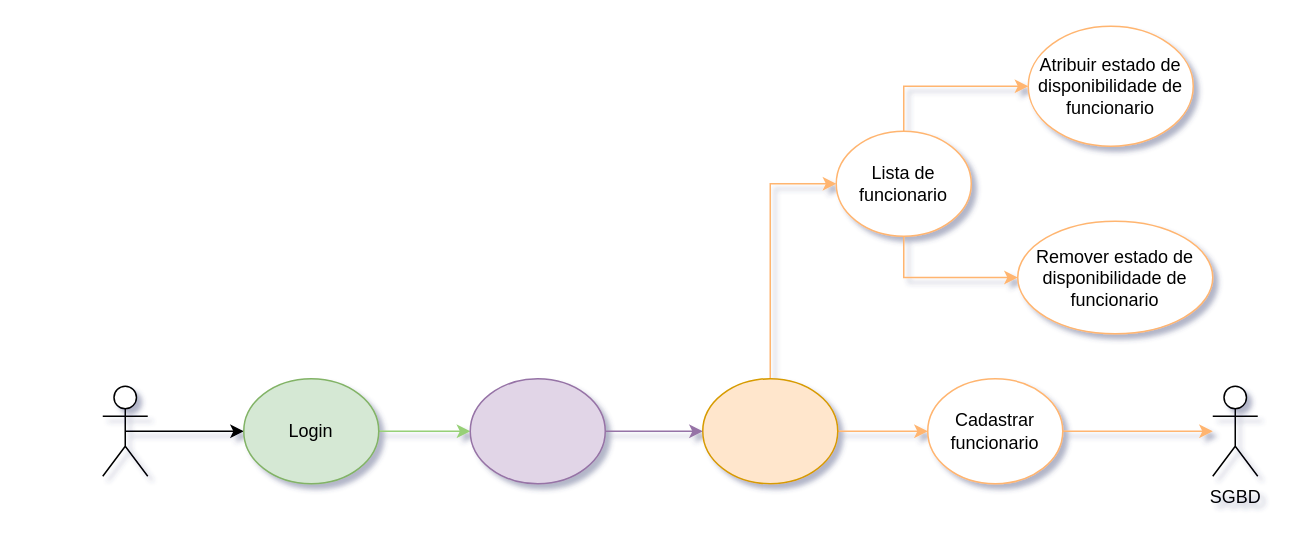
Image size: 1296x543. Some labels were removed from this diagram. The centre of each missing label's shape, as x and y in pixels:
"Acesso a conta" goes at pixel 537 430.
"Acesso aos Funcionarios" goes at pixel 769 430.
"Empreendedor/Utilizador" goes at pixel 124 430.
